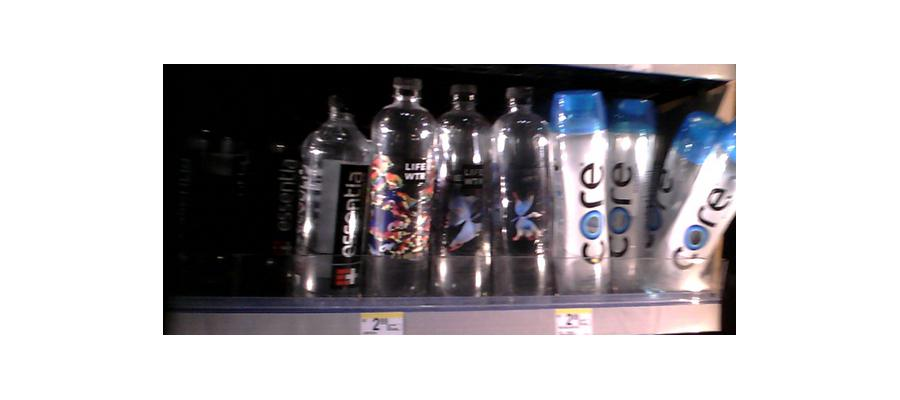bottle: (654, 114, 734, 311), (366, 71, 435, 298), (296, 84, 365, 305), (547, 88, 612, 297), (490, 79, 549, 300), (434, 84, 490, 299), (610, 99, 658, 294)
